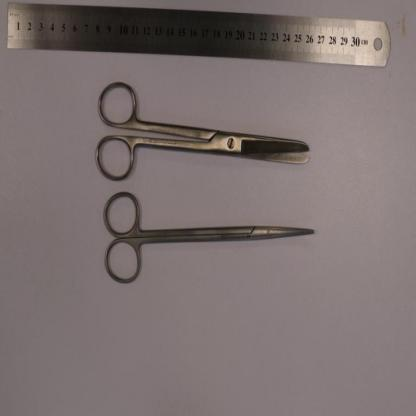7 Metzenbaum Scissors: (103, 189, 314, 286)
Dressing Scissors: (95, 78, 310, 184)
